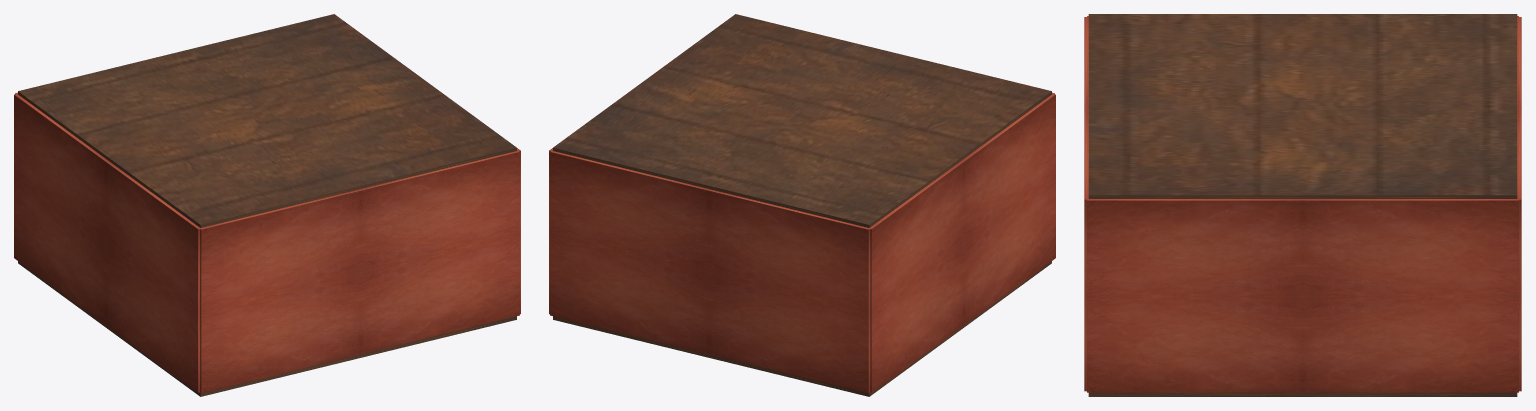
Rendered from Bakery.glb.
The picture shows the model from 3 angles, left to right: view 1: azimuth 30°, elevation 25°; view 2: azimuth 150°, elevation 25°; view 3: azimuth 270°, elevation 25°; orthographic projection. The views are drawn at different scales.
Visible parts, largest first — view 1: bakery painted plaster, Painted boards.002, Carved walnut.002; view 2: bakery painted plaster, Painted boards.002, Carved walnut.002; view 3: bakery painted plaster, Painted boards.002, Carved walnut.002.
Part boxes in pixels (bbox=[...]): bakery painted plaster: bbox=[14, 92, 520, 393]; Painted boards.002: bbox=[18, 14, 516, 227]; Carved walnut.002: bbox=[18, 261, 516, 396]; bakery painted plaster: bbox=[549, 92, 1055, 393]; Painted boards.002: bbox=[553, 14, 1051, 227]; Carved walnut.002: bbox=[553, 261, 1051, 396]; bakery painted plaster: bbox=[1084, 16, 1521, 392]; Painted boards.002: bbox=[1088, 14, 1517, 198]; Carved walnut.002: bbox=[1088, 392, 1517, 396].
Bounding box in the file's own units: 11.52 × 5.87 × 11.52.
Materials: 9 (7 with a texture image).
